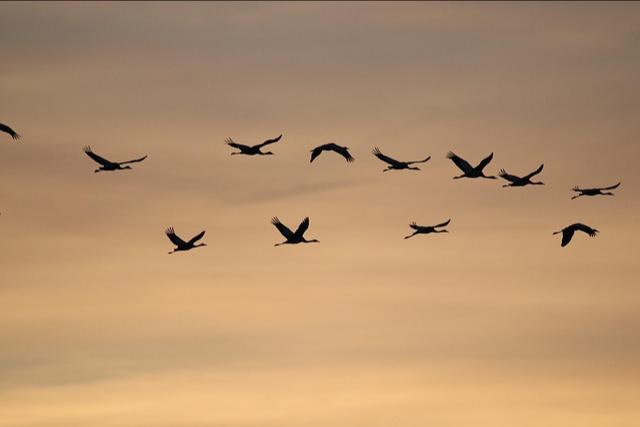Non_Gorille: (24, 10, 638, 354)
